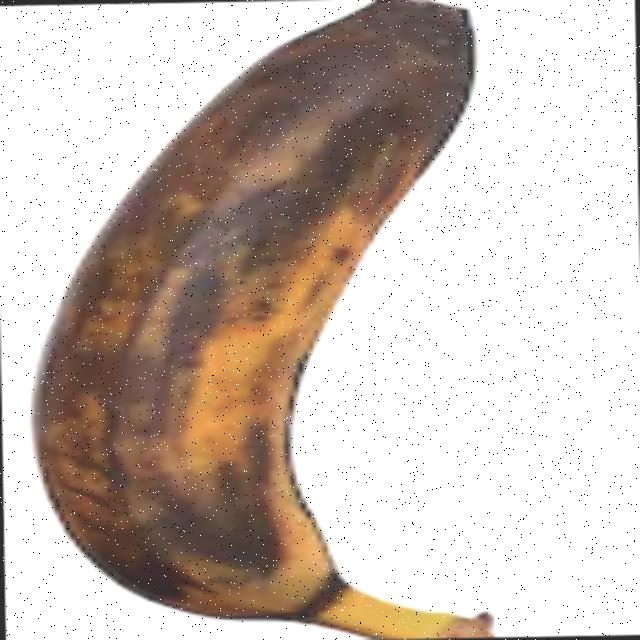Rotten: (23, 0, 592, 640)
